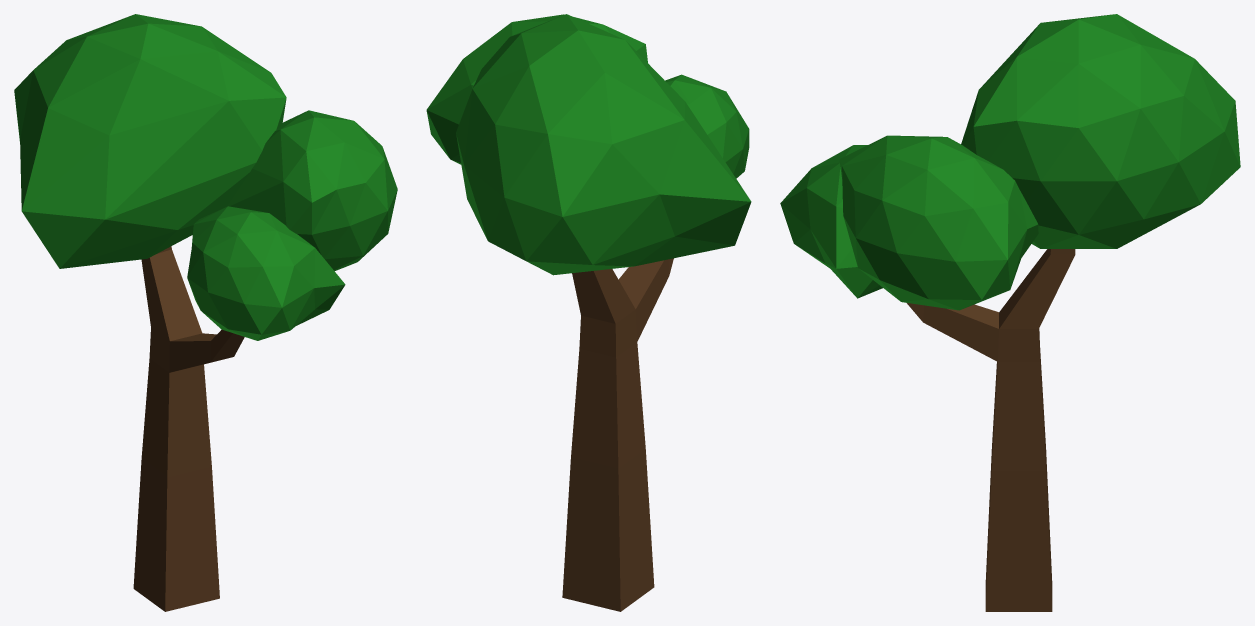
The model's file is Tree.fbx.
3 views of the same model, side by side, from view 1: azimuth 30°, elevation 25°; view 2: azimuth 150°, elevation 25°; view 3: azimuth 270°, elevation 25° (orthographic). The views are drawn at different scales.
Parts seen in each view (by area): view 1: Tree; view 2: Tree; view 3: Tree.
Part boxes in pixels (x1,y1,x2,y2): Tree: (14,14,397,611); Tree: (426,14,751,611); Tree: (780,14,1240,611).
Bounding box in the file's own units: 600 × 957 × 690.
